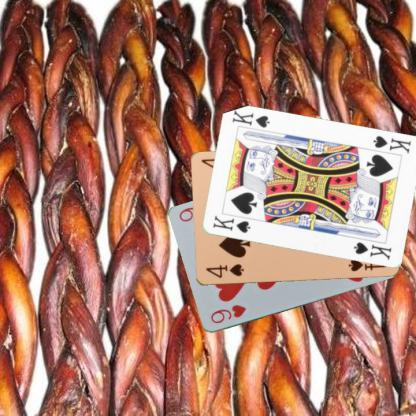4s: (203, 262, 245, 280)
9h: (207, 302, 248, 325)
Ks: (370, 133, 412, 155), (210, 213, 251, 235)
